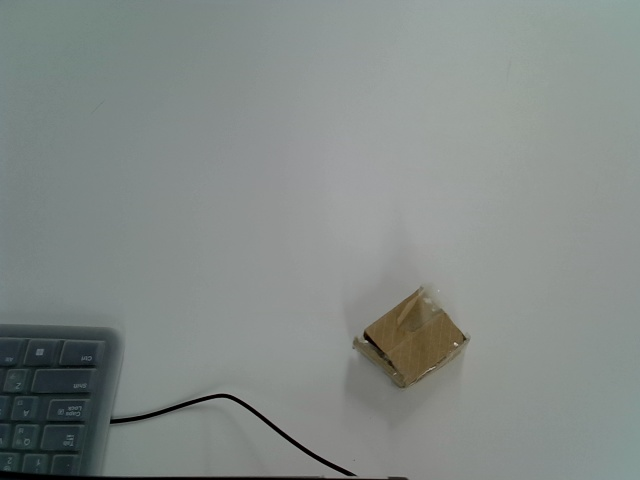defect: (352, 284, 472, 390)
